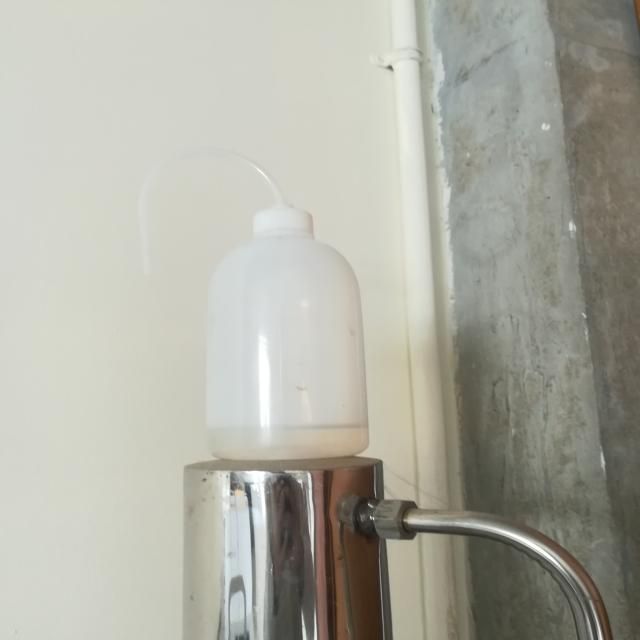Wash_Bottle: (102, 128, 416, 489)
